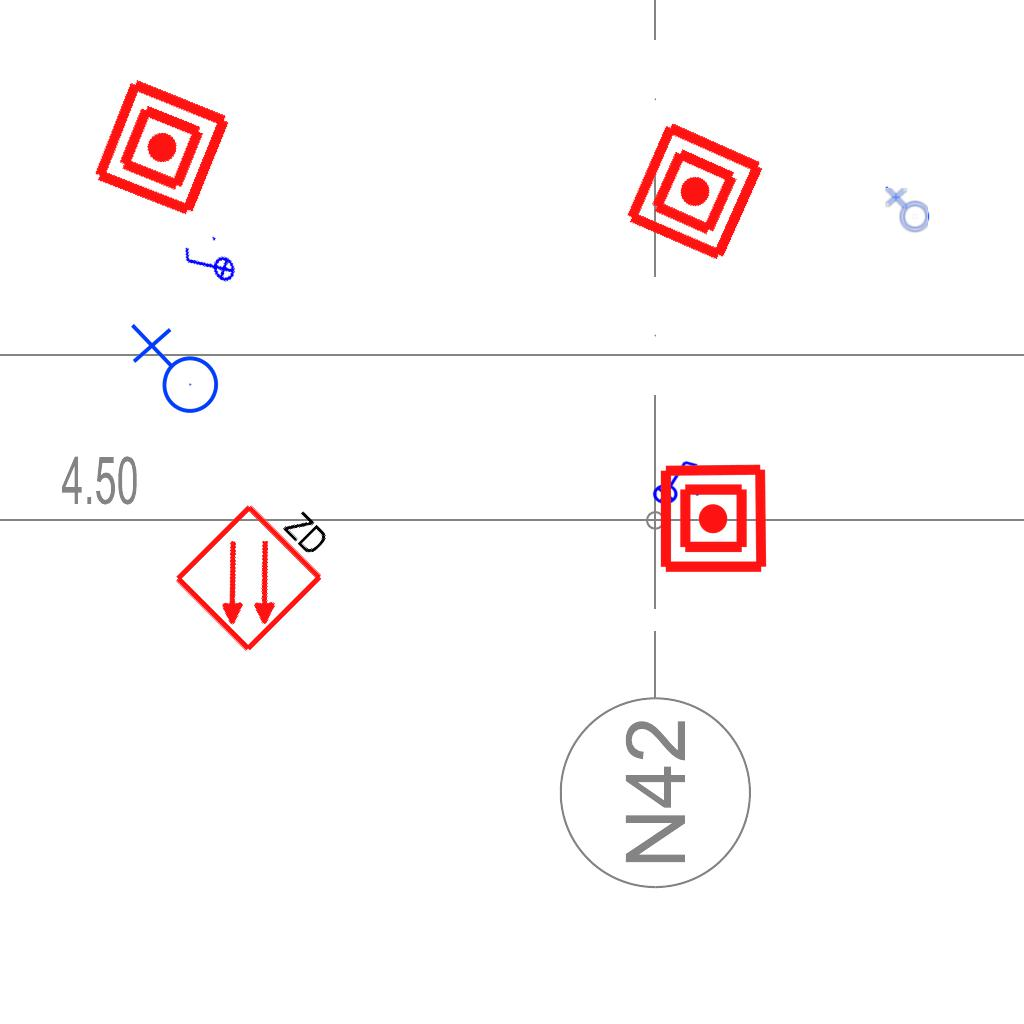Ausschalter_beleuchtet: (177, 230, 241, 300), (646, 457, 702, 505)
Elektroanschluss_allgemein_230V_Geraeteanschlussdose_230V: (126, 323, 220, 422), (883, 186, 930, 235)
NAM-Nichtautomatischer_Melder: (619, 116, 770, 267), (87, 73, 236, 222), (657, 462, 770, 575)
ZD_Melder_in_Zwischendecke_mit_Revisionsoeffnung_mind_40_x_40_cm: (168, 470, 354, 657)
